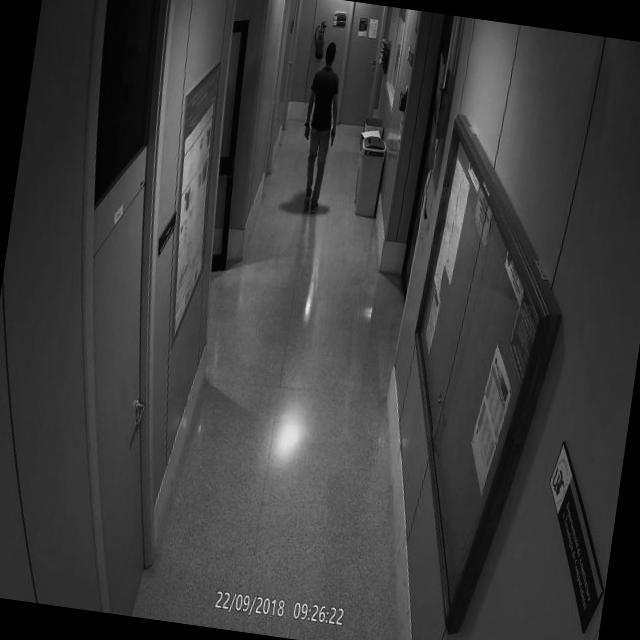gun: (325, 119, 340, 154)
person with a gun: (290, 42, 352, 220)
